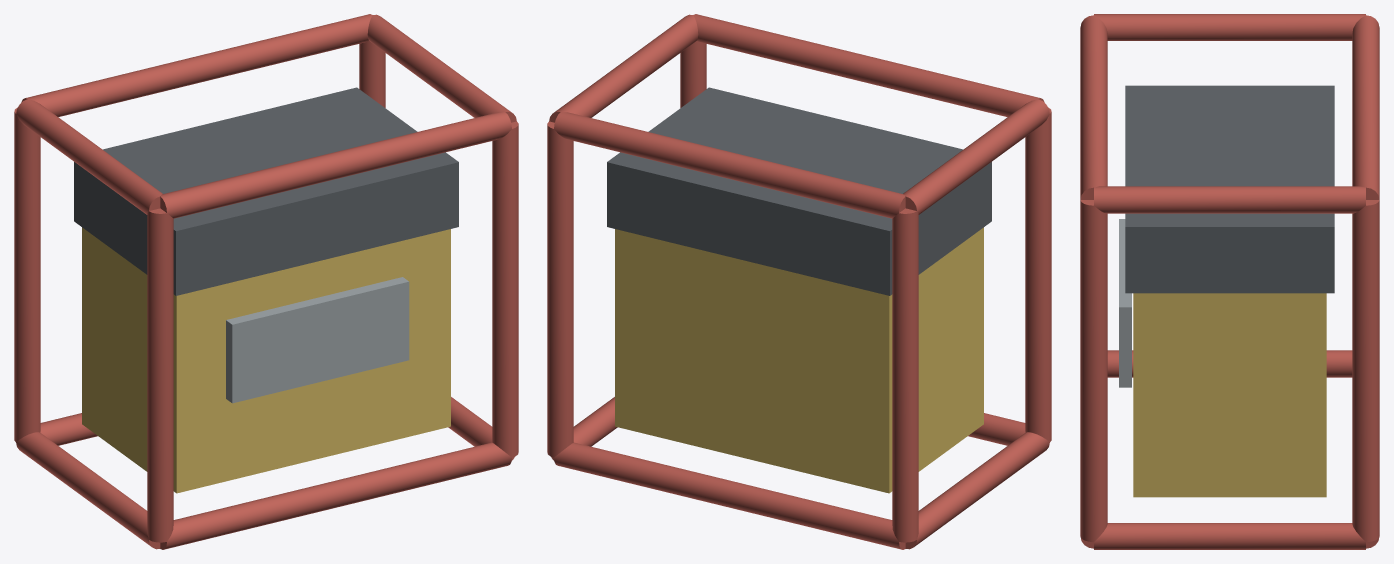
File: portable_generator.glb
3 views of the same model, side by side, from view 1: azimuth 30°, elevation 25°; view 2: azimuth 150°, elevation 25°; view 3: azimuth 270°, elevation 25° (orthographic). The views are drawn at different scales.
Parts seen in each view (by area): view 1: engine_1, fuel_tank_2, panel_3, frame_13, frame_12, frame_15, frame_4, frame_8, frame_5, frame_7, frame_6, frame_11 (+3 smaller); view 2: engine_1, fuel_tank_2, frame_15, frame_14, frame_13, frame_5, frame_9, frame_4, frame_7, frame_6, frame_11, frame_8 (+2 smaller); view 3: engine_1, fuel_tank_2, frame_8, frame_9, frame_11, frame_10, frame_7, frame_13, frame_15, panel_3, frame_6.
Part boxes in pixels (box(x1,y1,x2,y2)): engine_1: box(82, 227, 450, 493); fuel_tank_2: box(74, 87, 458, 295); panel_3: box(226, 277, 409, 403); frame_13: box(160, 112, 511, 218); frame_12: box(160, 442, 511, 549); frame_15: box(21, 14, 372, 116); frame_4: box(147, 208, 173, 542); frame_8: box(492, 121, 518, 457); frame_5: box(14, 107, 40, 442); frame_7: box(16, 99, 162, 214); frame_6: box(16, 432, 160, 549); frame_11: box(367, 14, 516, 122); engine_1: box(615, 227, 983, 493); fuel_tank_2: box(607, 87, 991, 295); frame_15: box(554, 112, 905, 218); frame_14: box(554, 442, 905, 549); frame_13: box(693, 14, 1044, 116); frame_5: box(892, 208, 918, 542); frame_9: box(547, 121, 573, 457); frame_4: box(1025, 107, 1051, 442); frame_7: box(903, 99, 1049, 214); frame_6: box(905, 432, 1049, 549); frame_11: box(549, 14, 698, 122); frame_8: box(680, 41, 706, 107); engine_1: box(1133, 293, 1326, 497); fuel_tank_2: box(1125, 85, 1334, 293); frame_8: box(1080, 200, 1107, 541); frame_9: box(1352, 200, 1379, 541); frame_11: box(1094, 186, 1365, 213); frame_10: box(1094, 523, 1365, 549); frame_7: box(1094, 14, 1365, 40); frame_13: box(1080, 15, 1107, 199); frame_15: box(1352, 15, 1379, 199); panel_3: box(1119, 219, 1131, 387); frame_6: box(1107, 350, 1352, 377).
Size of the model in its own units: 0.832 by 0.762 by 0.572.
